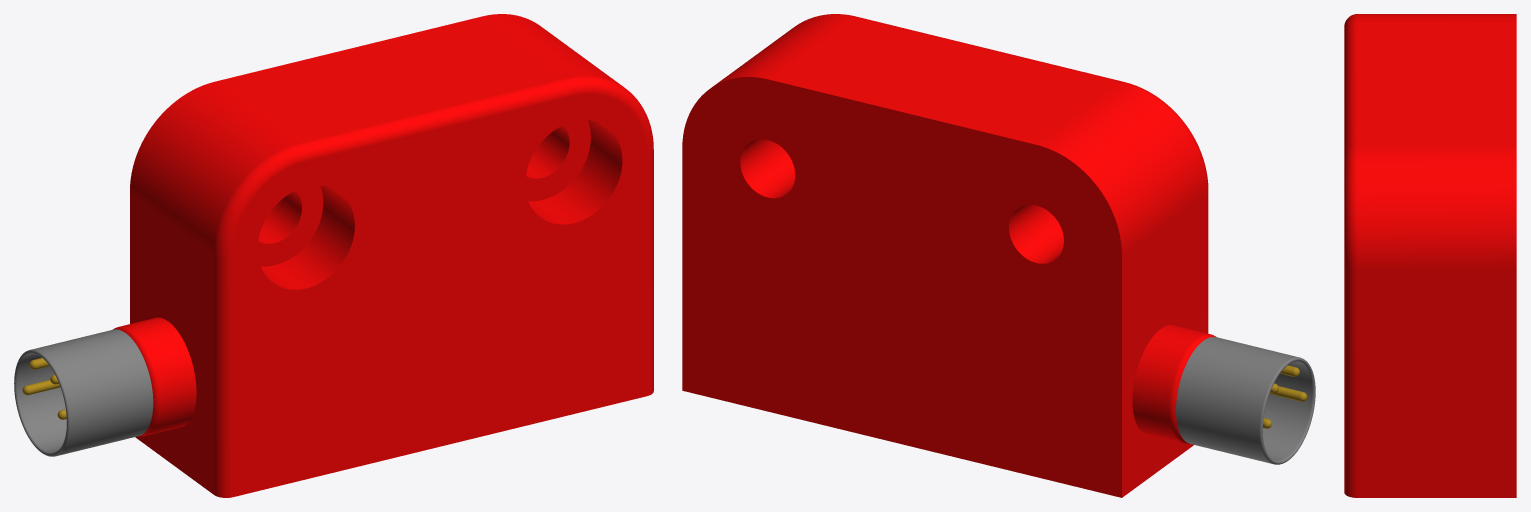
3 views of the same model, side by side, from view 1: azimuth 30°, elevation 25°; view 2: azimuth 150°, elevation 25°; view 3: azimuth 270°, elevation 25° (orthographic). The views are drawn at different scales.
Visible parts, largest first — view 1: MC36R11LP_1; view 2: MC36R11LP_1; view 3: MC36R11LP_1.
Boxes of the visible parts, x1,y1,x2,y2 form: MC36R11LP_1: (14,14,653,497); MC36R11LP_1: (682,14,1315,497); MC36R11LP_1: (1344,14,1516,497).
Bounding box in the file's own units: 46.5 × 26 × 13.
